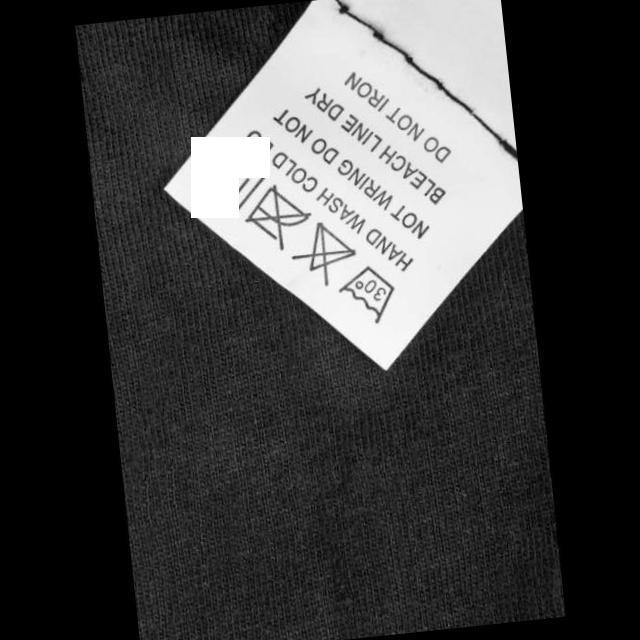30C: (333, 258, 402, 328)
DN_bleach: (285, 215, 361, 290)
DN_iron: (239, 178, 317, 254)
